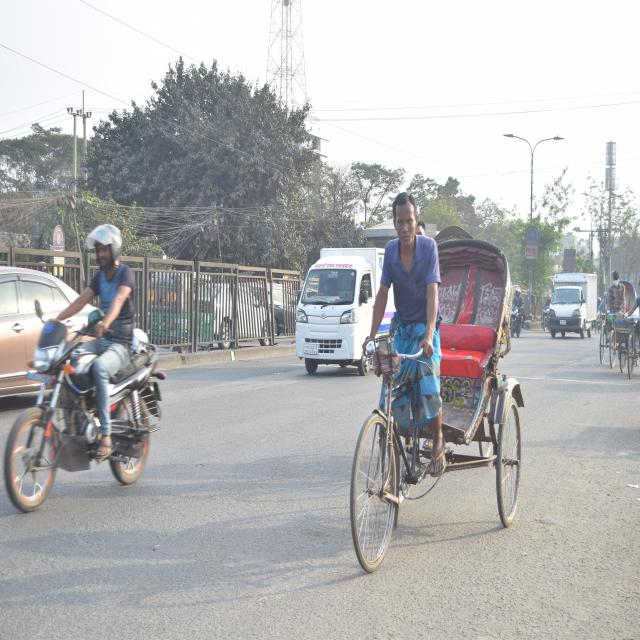car: (1, 265, 117, 386)
motorbike: (12, 316, 154, 508), (510, 290, 523, 346)
pickup-van: (294, 245, 392, 382), (546, 260, 597, 346)
